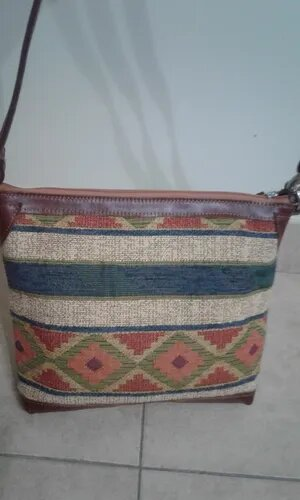cartera: (1, 1, 299, 420)
tela: (1, 182, 299, 410)
